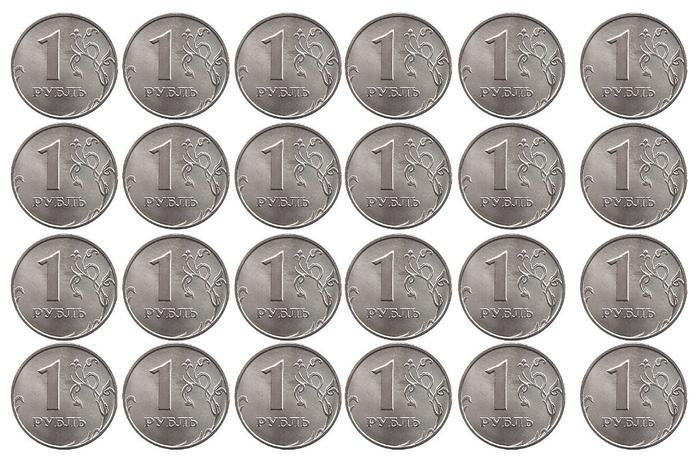coin: (9, 12, 119, 121), (9, 233, 118, 341), (579, 123, 688, 230), (579, 234, 688, 341), (234, 122, 342, 229), (121, 234, 229, 341), (345, 343, 453, 450), (122, 12, 229, 119), (11, 122, 118, 229), (235, 234, 342, 341), (459, 234, 566, 341), (581, 344, 688, 451), (345, 12, 452, 118), (11, 343, 117, 450), (579, 13, 687, 118), (458, 124, 566, 229), (344, 234, 452, 339), (124, 123, 230, 229), (235, 13, 342, 118), (459, 12, 566, 117), (345, 124, 452, 229), (123, 344, 230, 449), (236, 345, 342, 450), (459, 344, 565, 449)
